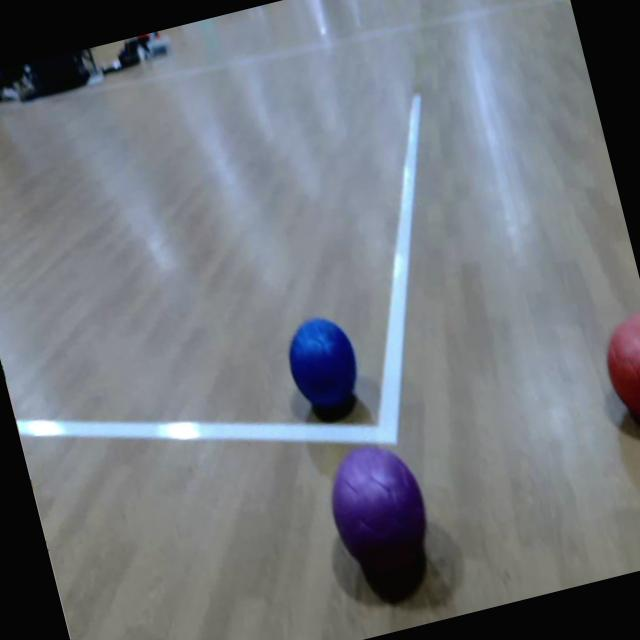blue_ball: (280, 308, 368, 418)
purple_ball: (316, 433, 439, 582)
red_ball: (595, 310, 640, 438)
